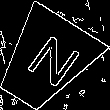N_SW: (12, 29, 78, 93)
